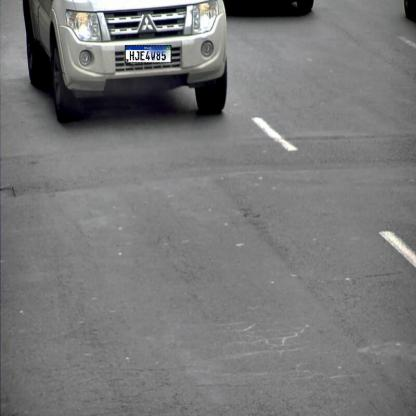PlacaM: (124, 45, 172, 63)
